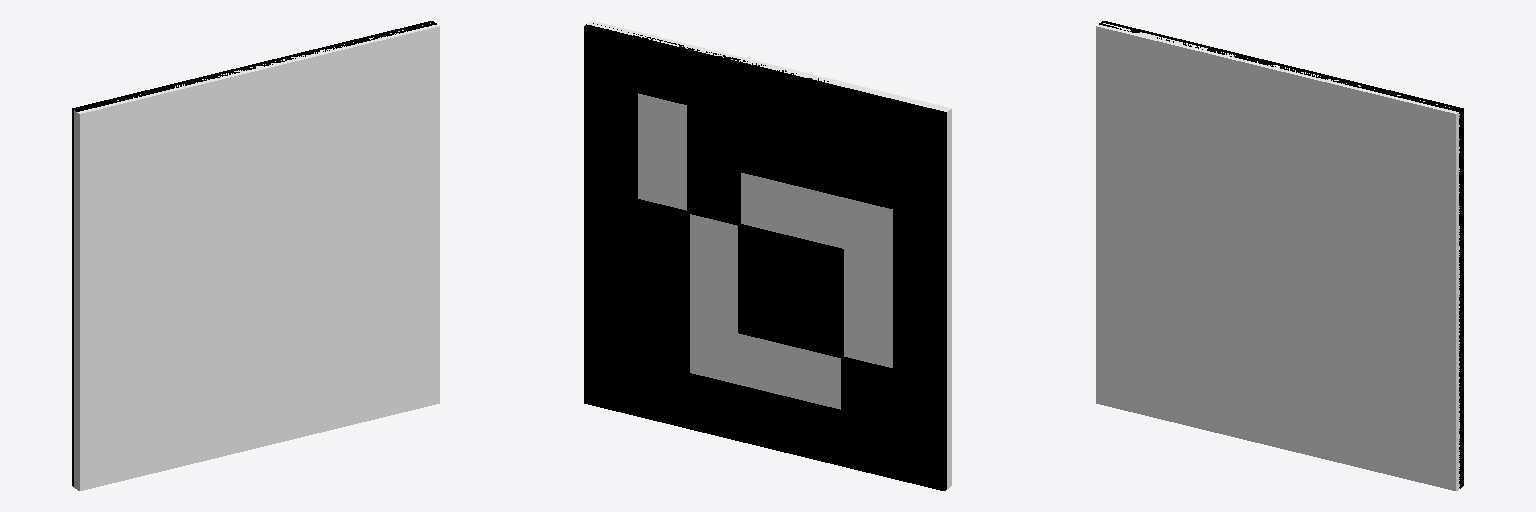
robot.urdf — aruco:
<?xml version="1.0"?>
<!-- created with Phobos 1.0.1 "Capricious Choutengan" -->
  <robot name="aruco">

    <link name="Untitled">
      <inertial>
        <origin xyz="0 0 0" rpy="0 0 0"/>
        <mass value="0.001"/>
        <inertia ixx="0.001" ixy="0" ixz="0" iyy="0.001" iyz="0" izz="0.001"/>
      </inertial>
      <visual name="Aruco">
        <origin xyz="0 0 0" rpy="0 0 0"/>
        <geometry>
          <mesh filename="Aruco.stl" scale="0.008 0.002 0.008"/>
        </geometry>
        <material name="Material.001"/>
      </visual>
    </link>

    <link name="Untitled.001">
      <inertial>
        <origin xyz="0 0 0" rpy="0 0 0"/>
        <mass value="0.001"/>
        <inertia ixx="0.001" ixy="0" ixz="0" iyy="0.001" iyz="0" izz="0.001"/>
      </inertial>
      <visual name="Cube">
        <origin xyz="0 0 0" rpy="0 0 0"/>
        <geometry>
          <box size="0.4 0.01 0.4"/>
        </geometry>
        <material name="Material.002"/>
      </visual>
    </link>

    <joint name="Untitled.001" type="fixed">
      <origin xyz="0 0.05 0" rpy="0 0 0"/>
      <parent link="Untitled"/>
      <child link="Untitled.001"/>
    </joint>

    <material name="Material.001">
      <color rgba="0 0 0 1.0"/>
    </material>

    <material name="Material.002">
      <color rgba="1 1 1 1.0"/>
    </material>

  </robot>

--- Facts derived from the render (not from the file) ---
Views: 3 orthographic renders of the robot side by side, from view 1: azimuth 30°, elevation 25°; view 2: azimuth 150°, elevation 25°; view 3: azimuth 330°, elevation 25°.
Robot: aruco — 2 links, 1 joints (1 fixed); root link Untitled; default pose: all joints at 0.
Links seen in each view (by area): view 1: Untitled.001, Untitled; view 2: Untitled, Untitled.001; view 3: Untitled.001, Untitled.
Boxes of the visible links, box(x1,y1,x2,y2) form: Untitled.001: box(74, 23, 439, 490); Untitled: box(72, 21, 436, 486); Untitled: box(584, 23, 946, 490); Untitled.001: box(587, 21, 951, 488); Untitled.001: box(1096, 23, 1459, 490); Untitled: box(1099, 21, 1463, 488).
Bounding box of the posed robot: 0.4 × 0.015 × 0.4 m (x, y, z).
Meshes: 1 distinct files referenced, 1 mesh visuals loaded (1 binary STL).